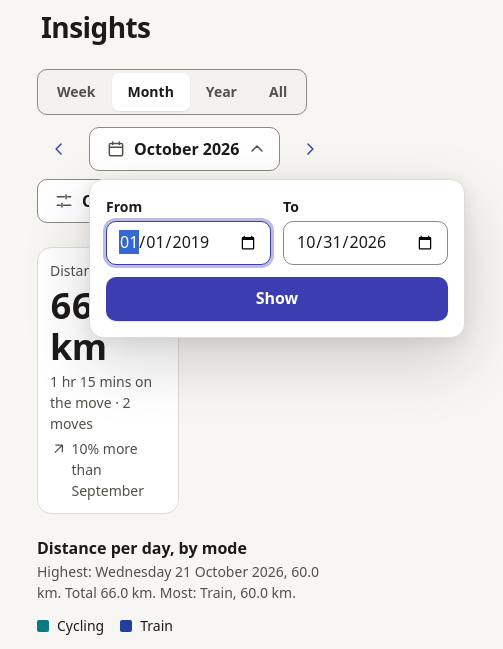
the period › takes a custom period of at most three years, in a popover Escape closes
This screenshot has width=503, height=649.
Earlier steps of the test are not shown.
Step 1. Click the button "Show" → [277, 299], box [106,277,448,321]
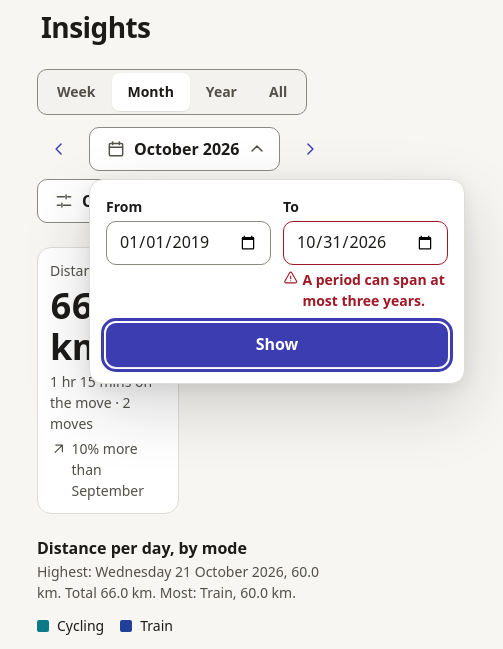
Now the text "A period can span at most three years." is shown, box [302,269,448,311]
Step 2. Type "2026-10-06" into the date field labelled "From" → [188, 243], box [106,221,271,265]
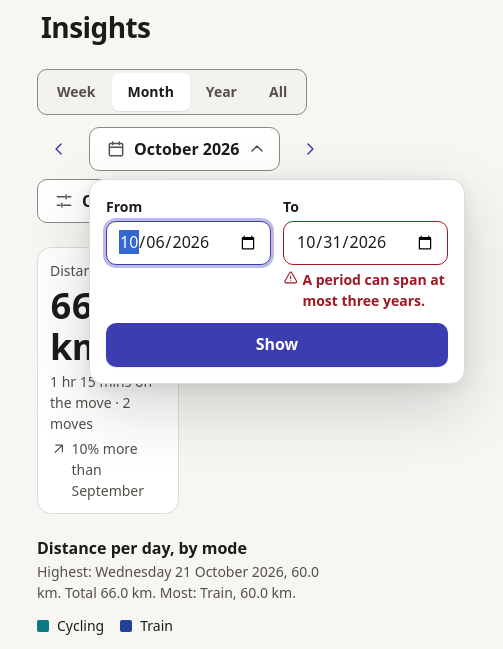
Step 3. Type "2026-10-26" into the date field labelled "To" → [366, 243], box [283,221,448,265]
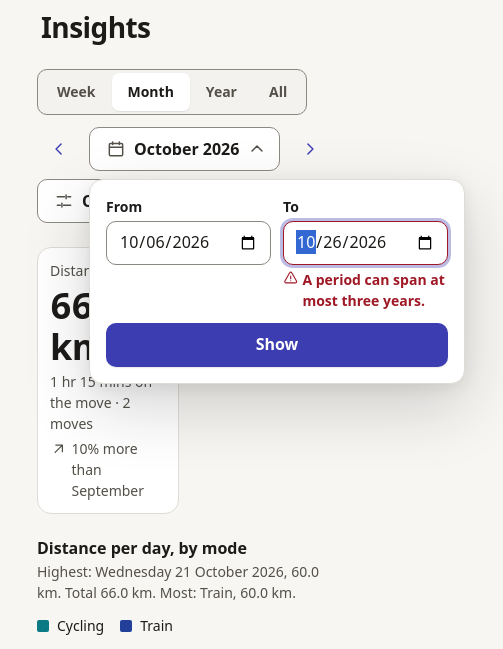
Step 4. Click the button "Show" → [277, 345], box [106,323,448,367]
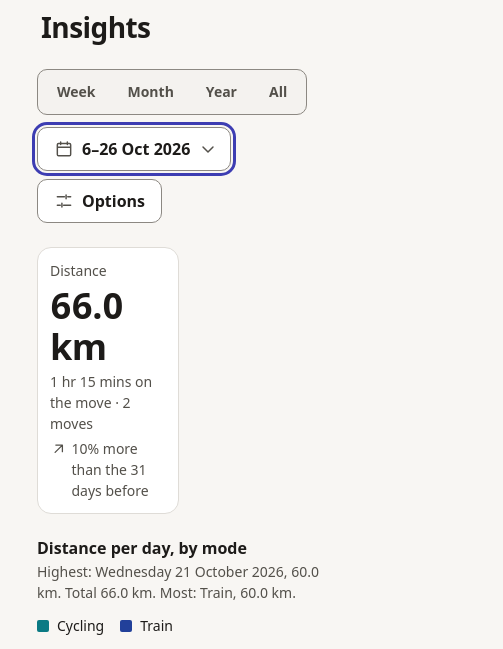
Now the label labelled "From" is gone
Step 5. Click the button "6–26 Oct 2026" → [134, 149], box [37,127,231,171]
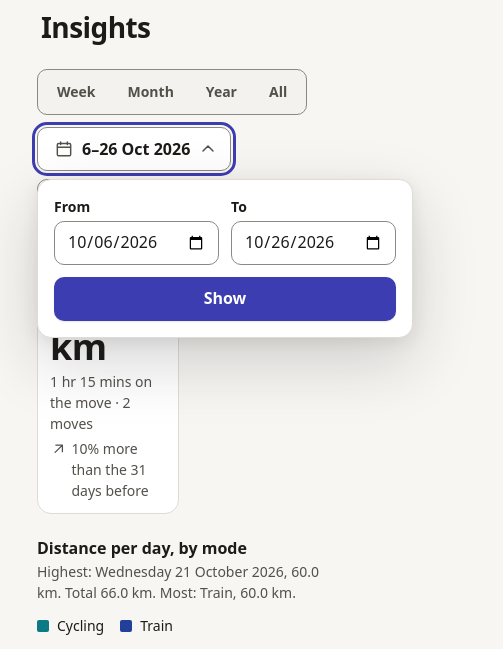
Now the date field labelled "From" is shown, box [54,221,219,265]
Step 6. Press Escape
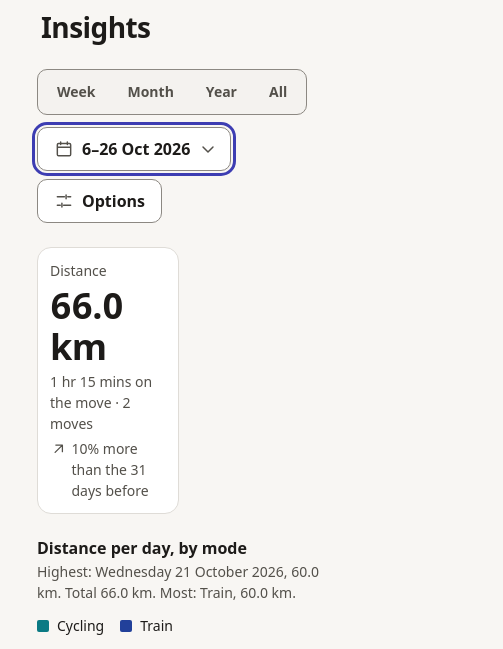
Now the label labelled "From" is gone
